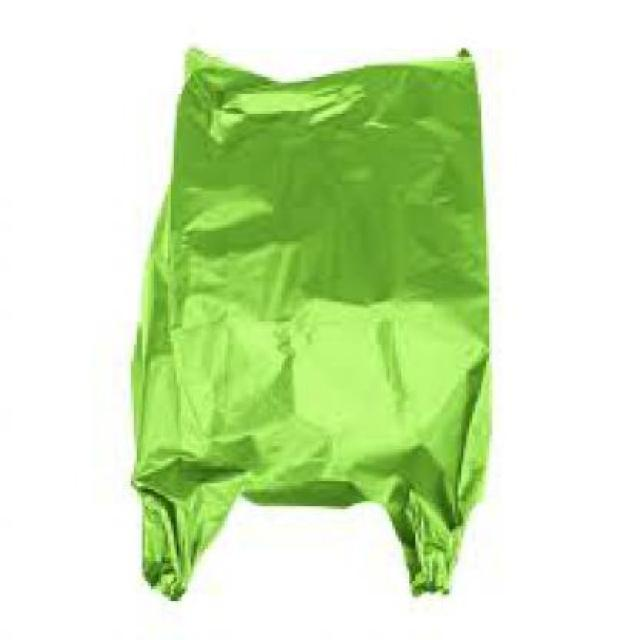PLASTIC: (126, 52, 492, 606)
